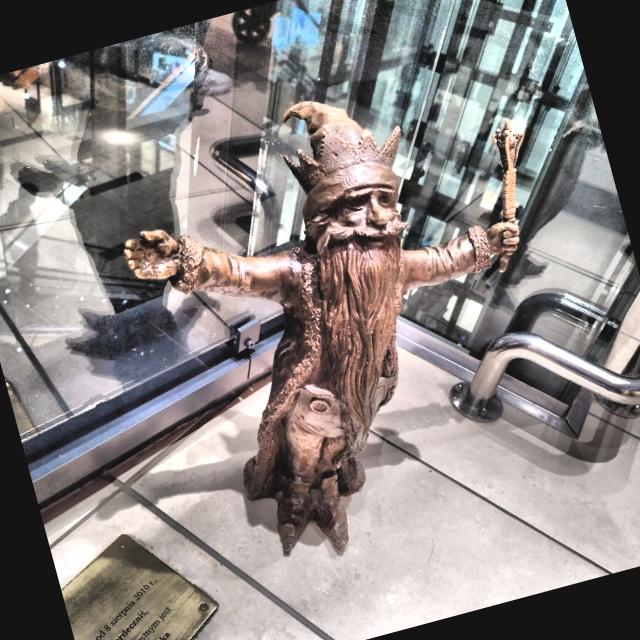Serdecznis: (124, 102, 528, 557)
